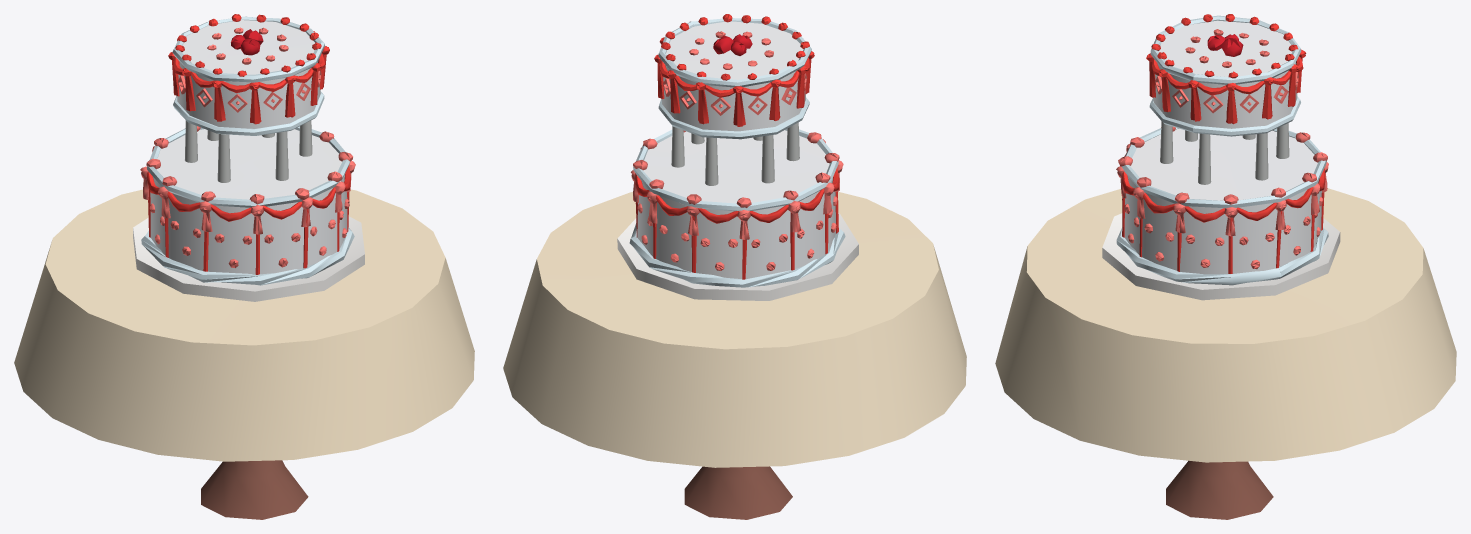
File: wedding_cake.fbx
The picture shows the model from 3 angles, left to right: view 1: azimuth 30°, elevation 25°; view 2: azimuth 150°, elevation 25°; view 3: azimuth 270°, elevation 25°; orthographic projection.
Visible parts, largest first — view 1: ctable, w_cake; view 2: ctable, w_cake; view 3: ctable, w_cake.
Boxes of the visible parts, x1,y1,x2,y2 form: ctable: (14,189,474,519); w_cake: (133,14,364,301); ctable: (503,191,966,519); w_cake: (617,14,858,300); ctable: (995,188,1456,519); w_cake: (1102,14,1340,300).
Size of the model in its own units: 16.05 by 17.65 by 16.03.
